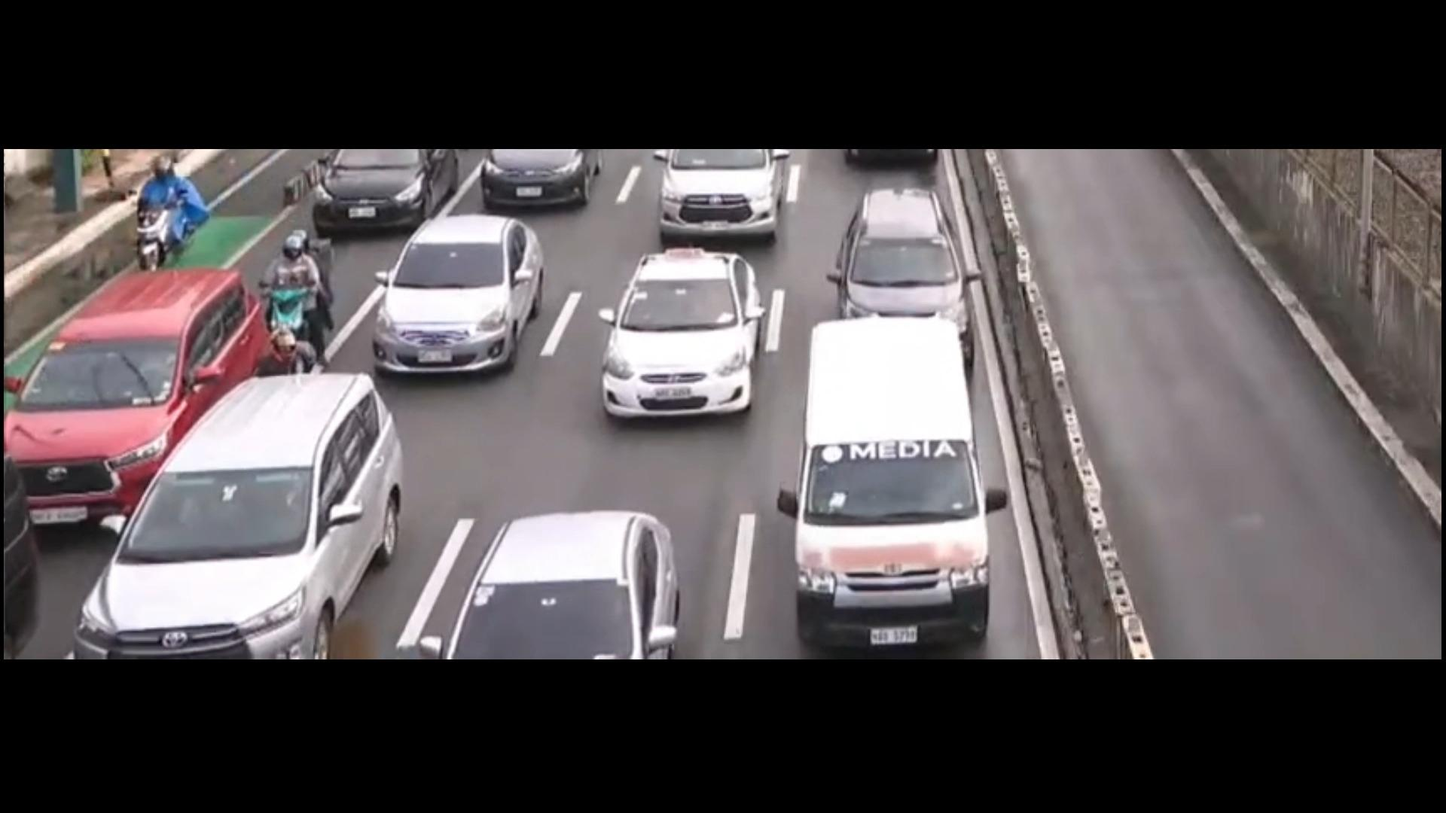Motorcycle: (265, 224, 345, 372), (126, 142, 202, 276)
SUV: (63, 360, 435, 667), (0, 249, 275, 530), (816, 170, 994, 362)
Sedan: (415, 490, 699, 663), (582, 241, 784, 438), (352, 209, 548, 374)
Van: (737, 294, 1045, 652)
